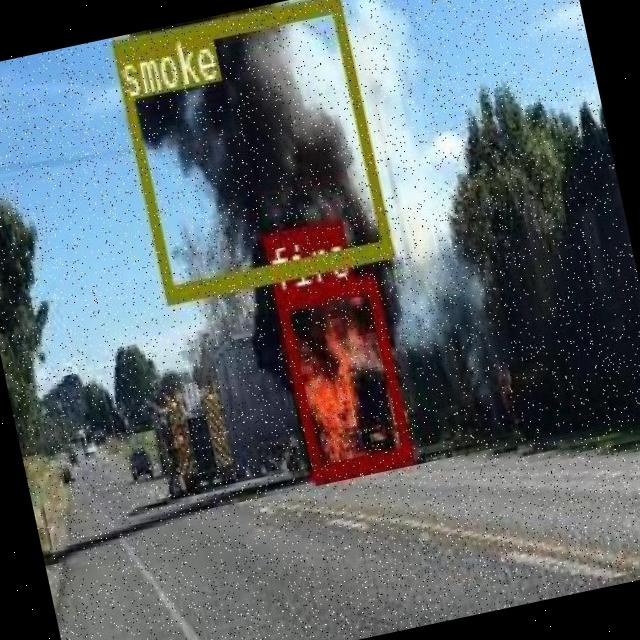smoke: (110, 0, 392, 301)
